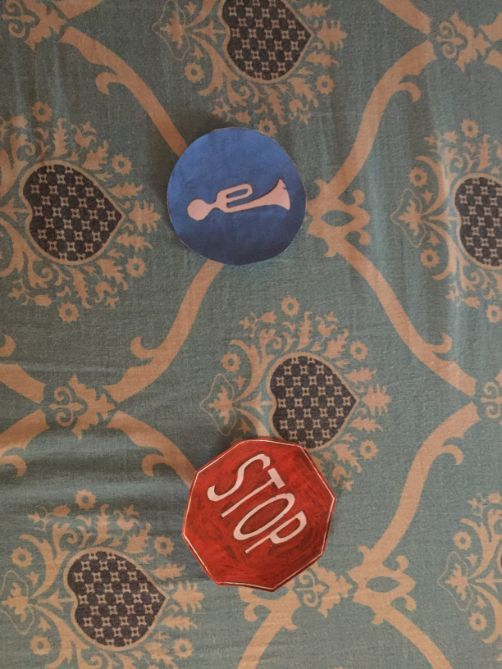blow-horn: (165, 128, 306, 261)
stop: (183, 435, 333, 594)
